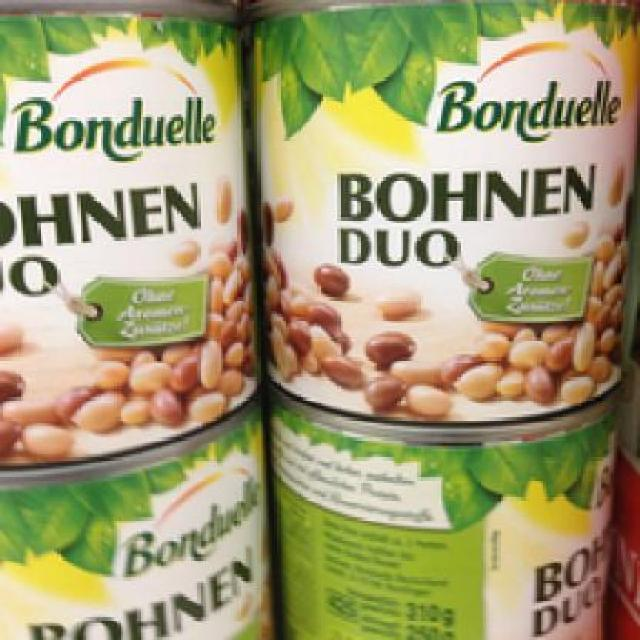Beans: (252, 0, 638, 426), (0, 2, 237, 458)
